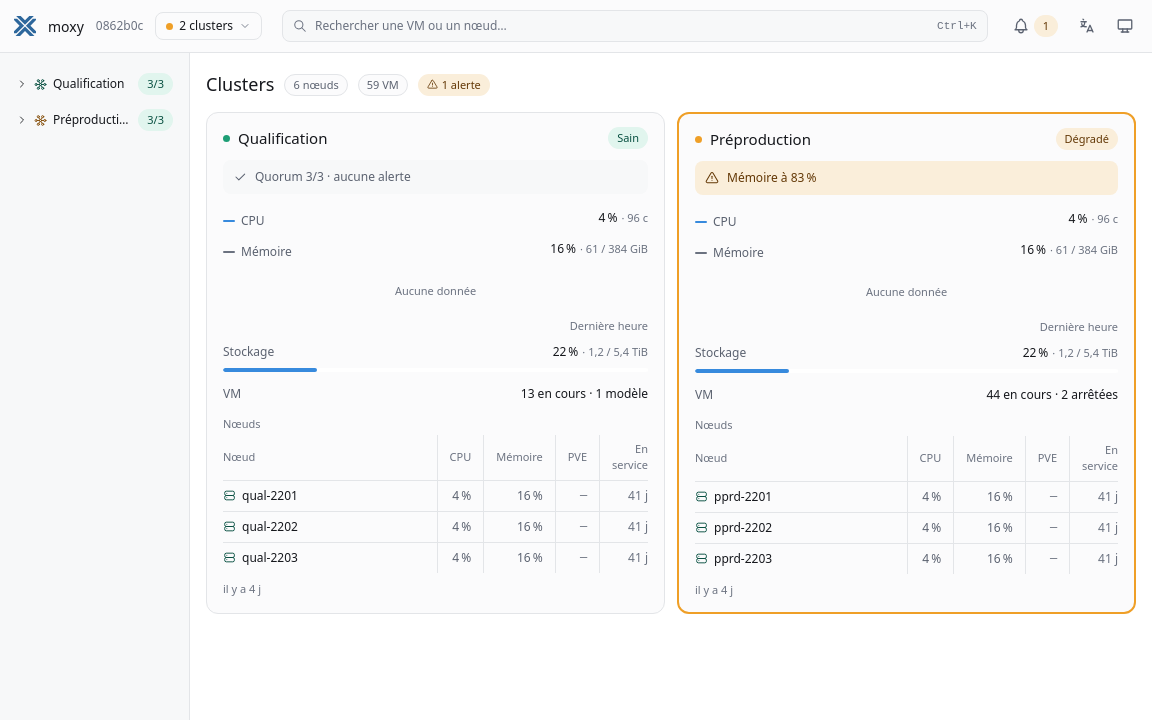
Test: App › narrows the view to one cluster when the tree selects it
Check: the button "2 clusters" is shown, box [155, 12, 262, 40]
Step 1. Click the text "Préproduction" → click(93, 120), box [53, 111, 132, 129]
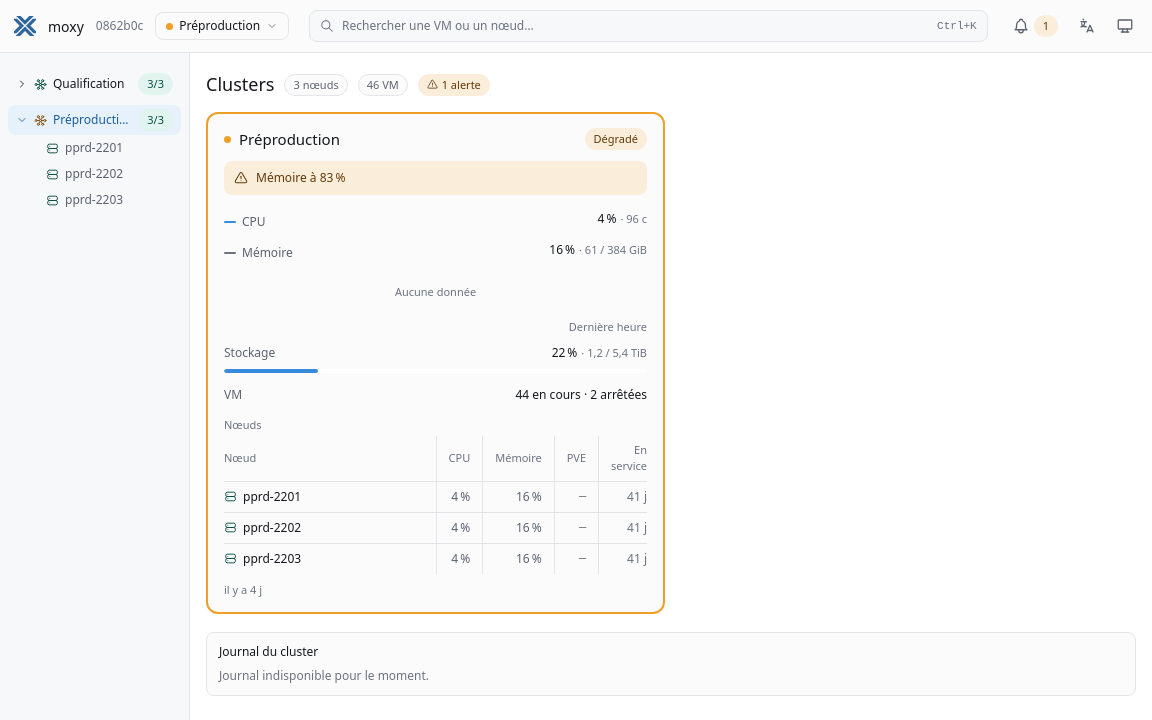
Check: the text "Qualification" is shown, box [53, 75, 124, 93]
Check: the text "46 VM" is shown, box [358, 74, 408, 96]
